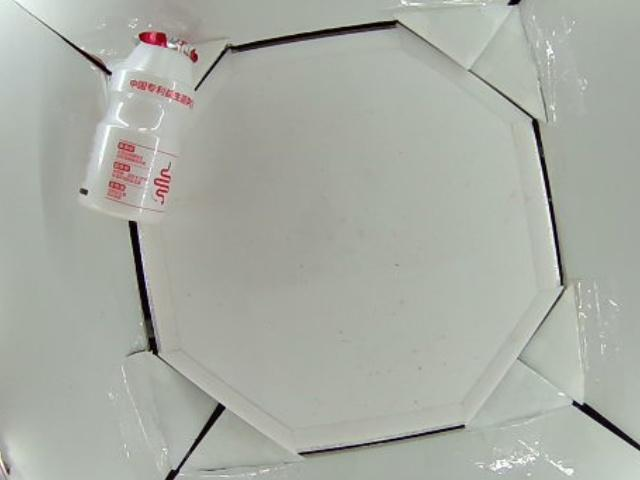Bottle: (77, 25, 202, 227)
